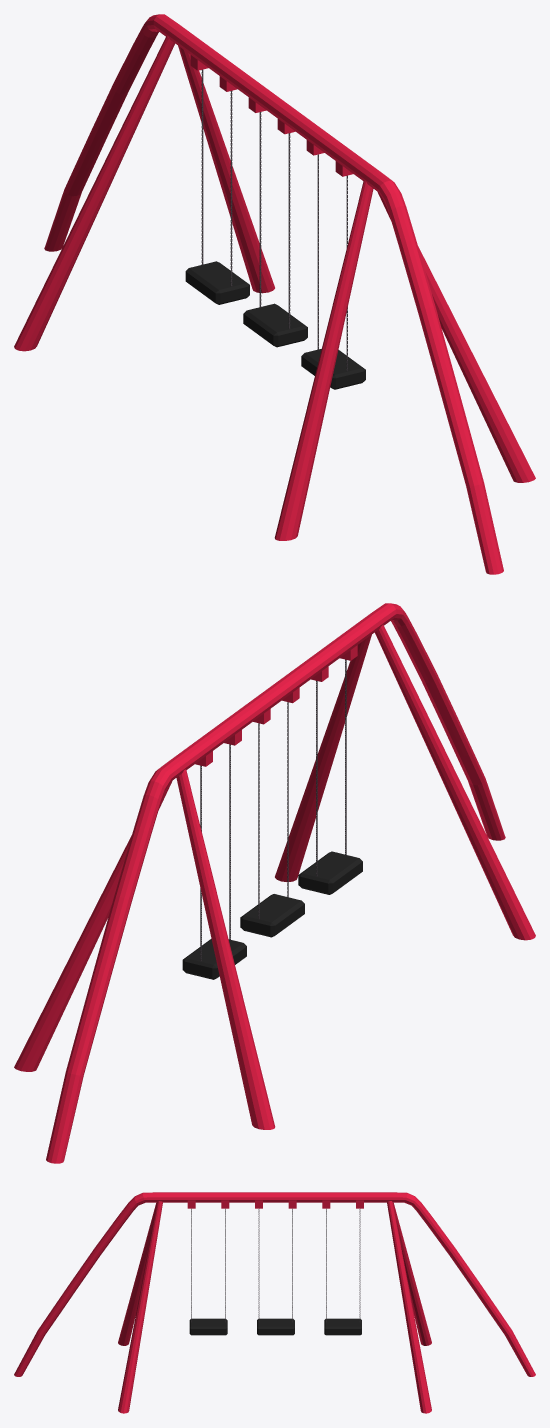
File: swings 1.fbx
The picture shows the model from 3 angles, top to bottom: view 1: azimuth 30°, elevation 25°; view 2: azimuth 150°, elevation 25°; view 3: azimuth 270°, elevation 25°; orthographic projection. The views are drawn at different scales.
Visible parts, largest first — view 1: Swingers, Cube.005, Cube.004, Cube.003, swinger.001, swinger.002, swinger; view 2: Swingers, Cube.004, Cube.003, Cube.005, swinger, swinger.001, swinger.002; view 3: Swingers, Cube.003, Cube.004, Cube.005, swinger.002, swinger.001.
Boxes of the visible parts, x1,y1,x2,y2 form: Swingers: (14, 14, 535, 574); Cube.005: (185, 261, 249, 304); Cube.004: (243, 303, 307, 347); Cube.003: (301, 349, 365, 389); swinger.001: (259, 112, 290, 328); swinger.002: (201, 69, 232, 286); swinger: (317, 154, 347, 370); Swingers: (14, 603, 535, 1163); Cube.004: (240, 894, 304, 937); Cube.003: (298, 851, 362, 894); Cube.005: (182, 939, 246, 979); swinger: (316, 659, 346, 876); swinger.001: (258, 702, 288, 918); swinger.002: (200, 744, 230, 961); Swingers: (14, 1192, 535, 1413); Cube.003: (189, 1318, 227, 1335); Cube.004: (257, 1318, 294, 1335); Cube.005: (324, 1318, 361, 1335); swinger.002: (326, 1209, 360, 1322); swinger.001: (258, 1209, 292, 1322).
Bounding box in the file's own units: 300 × 350 × 900.
